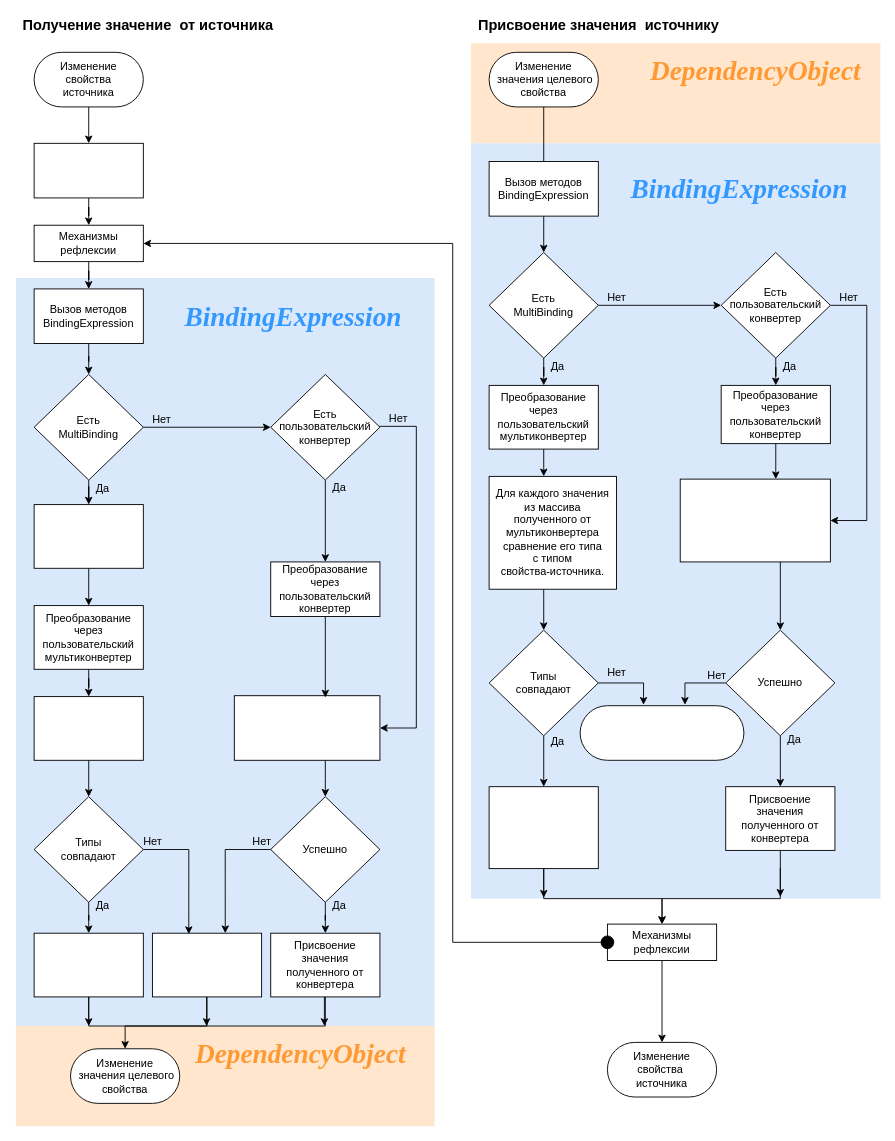
The diagram is 895 pixels wide and 1141 high, and some of its shapes have lost their labels. Here are the shapes that lost their labels. From the top down, the centre of each, then its label:
At (x=88, y=170): "Создание события PropertyChanged".
At (x=88, y=536): "Получение массива значений по привязкам".
At (x=754, y=520): "Преобразование через DefaultValueConvert к типу свойства свойства источника".
At (x=88, y=728): "Сравнение типов: полученного от мультиконвертера и целевого свойства.".
At (x=306, y=727): "Преобразование через DefaultValueConvert к типу целевого свойства.".
At (x=661, y=732): "Отмена присвоения и установка флага ошибки валидации".
At (x=543, y=827): "Присвоение проверенного значения полученного из массива от мультиконвертера".
At (x=88, y=964): "Присвоение значения полученного от мультиконвертера".
At (x=207, y=964): "Присвоение значения по умолчанию".
